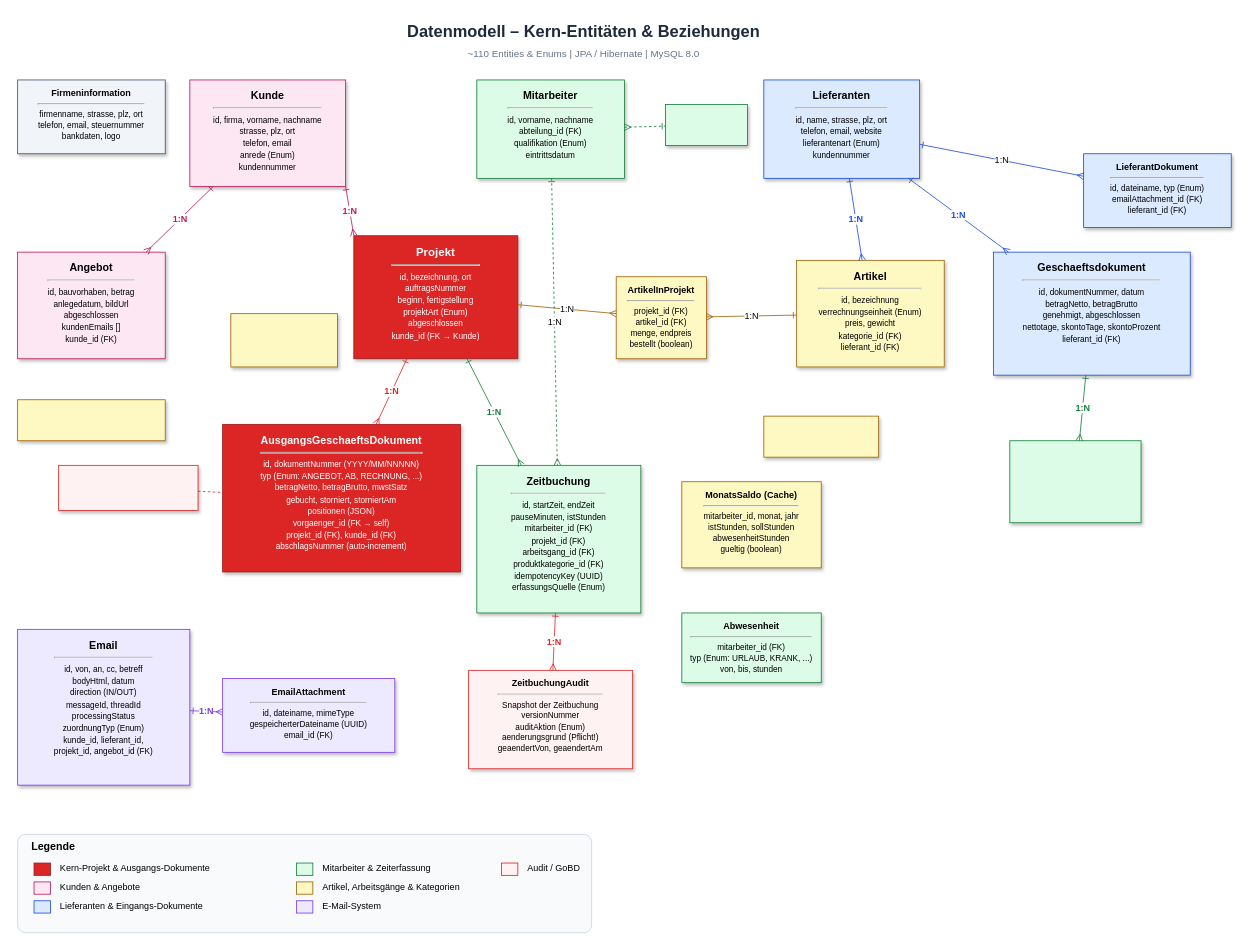
Some shapes in this 1251 by 947 pixel diagram are drawn without their labels. The centre of each missing label's shape, as x and y in pixels:
Abteilung id, name, nummer: (706,125)
Arbeitsgang id, bezeichnung stundensaetze []: (284,341)
AusgangsDokumentCounter jahr, monat, zaehler Pessimistic Lock: (129,488)
Leistung id, bezeichnung, beschreibung: (92,421)
Produktkategorie id, name, beschreibung: (822,437)
Zahlung id, betrag, datum zahlungsart verwendungszweck geschaeftsdokument_id: (1076,482)
